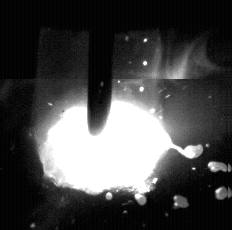arame: (88, 0, 112, 134)
poca: (38, 0, 159, 230)
